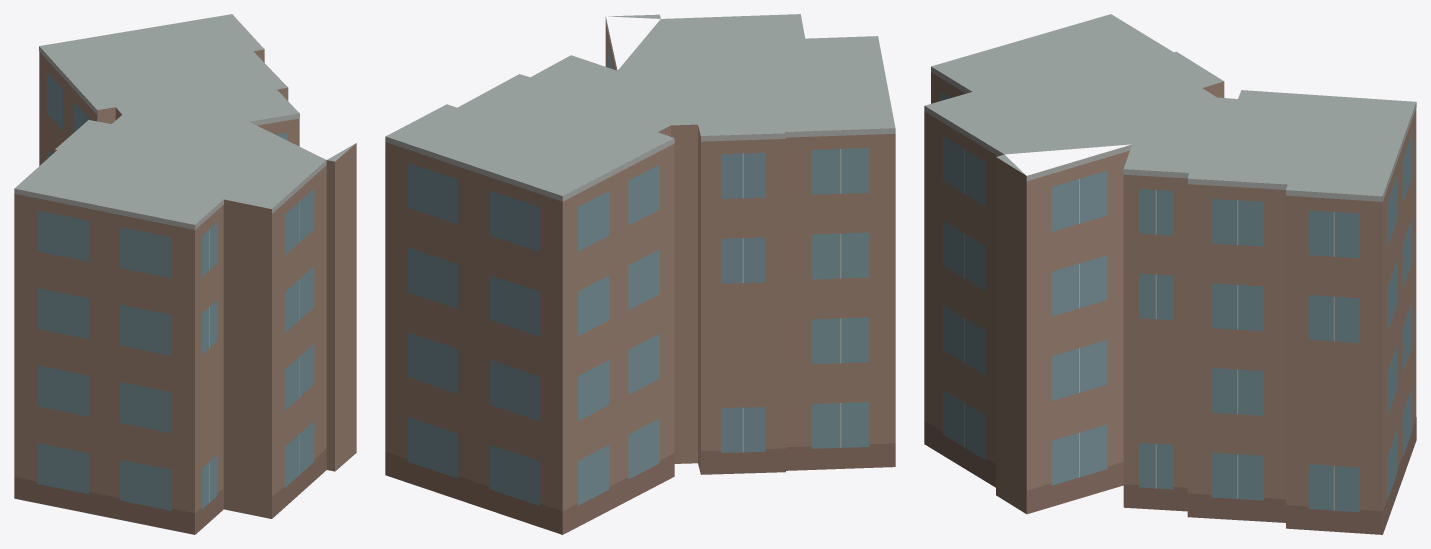
File: survey-upis-32659374.glb
3 renders of one model, left to right at view 1: azimuth 30°, elevation 25°; view 2: azimuth 150°, elevation 25°; view 3: azimuth 270°, elevation 25°, orthographic. The views are drawn at different scales.
Parts seen in each view (by area): view 1: survey-upis-32659374.tmp; view 2: survey-upis-32659374.tmp; view 3: survey-upis-32659374.tmp.
Part boxes in pixels (<box>): survey-upis-32659374.tmp: <box>14,14,356,534</box>; survey-upis-32659374.tmp: <box>385,14,895,534</box>; survey-upis-32659374.tmp: <box>924,14,1416,534</box>.
Size of the model in its own units: 17.29 by 14.95 by 19.71.
